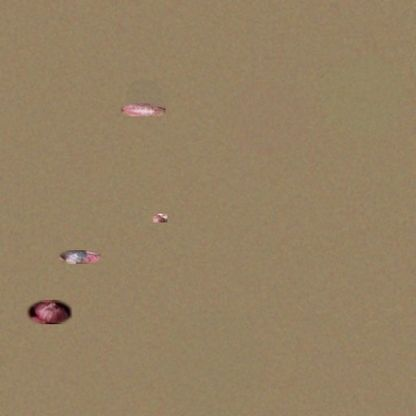healthy: (27, 300, 72, 324)
rotten: (58, 250, 101, 264), (120, 103, 166, 116)
sprouted: (153, 214, 167, 223)
